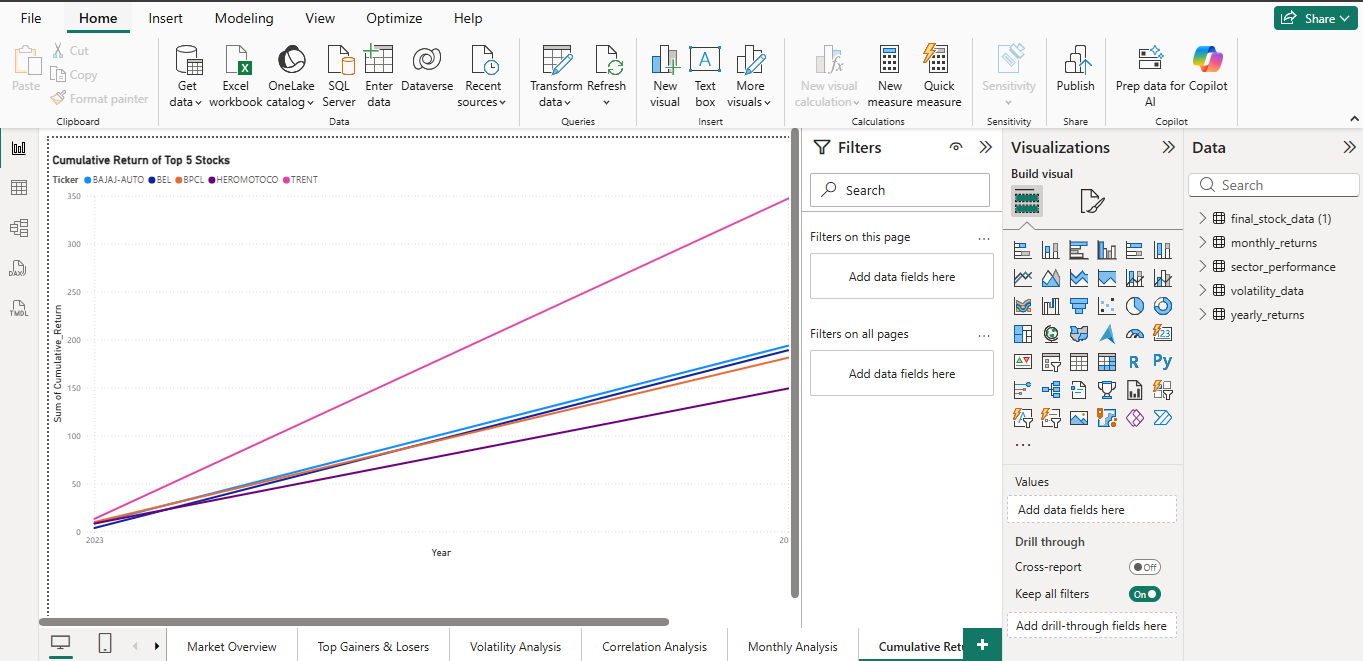

This screenshot's page, from the dashboard's own definition file:
{"tool":"powerbi","page":{"name":"Cumulative Return","canvas":[1280,720],"ordinal":5},"visuals":[{"type":"lineChart","title":"Cumulative Return of Top 5 Stocks","fields":{"Category":["final_stock_data (1).Date.Variation.Date Hierarchy.Year","final_stock_data (1).Date.Variation.Date Hierarchy.Quarter","final_stock_data (1).Date.Variation.Date Hierarchy.Month","final_stock_data (1).Date.Variation.Date Hierarchy.Day"],"Y":["Sum(final_stock_data (1).Cumulative_Return)"],"Series":["final_stock_data (1).Ticker"]},"box":[0,21.6,1089.2,591.9],"z":0}]}

Visuals, with their boxes on the page's 1280x720 design canvas (x1, y1, x2, y2). These are canvas units, not pixel positions in the 1363x661 screenshot, which may show the page scaled, cropped or inside an application window:
"Cumulative Return of Top 5 Stocks" lineChart: 0, 22, 1089, 614
